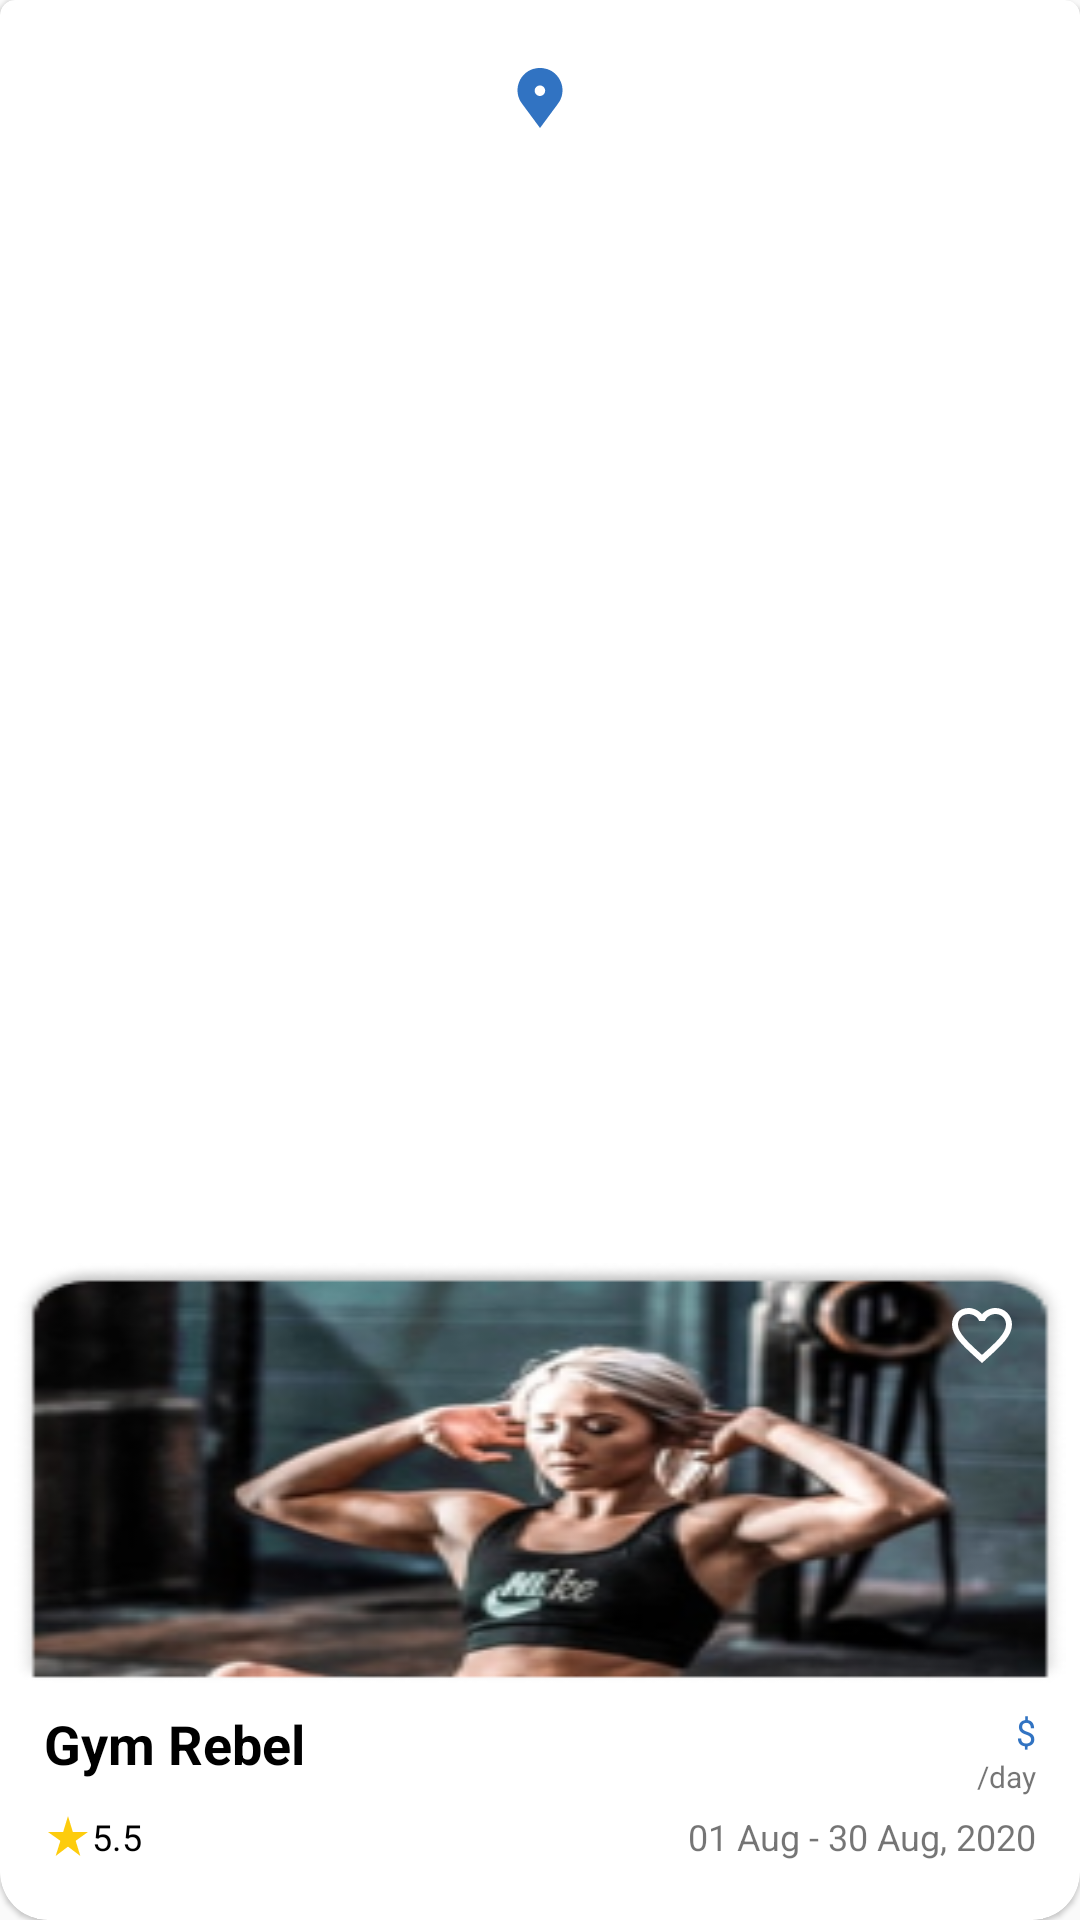

Where icons sit on this 1080w x 1920h app screen, as [left=x1, top=y1, right=x2, bottom=y2]:
location: [left=517, top=68, right=563, bottom=128]
star rate: [left=48, top=1816, right=88, bottom=1856]
